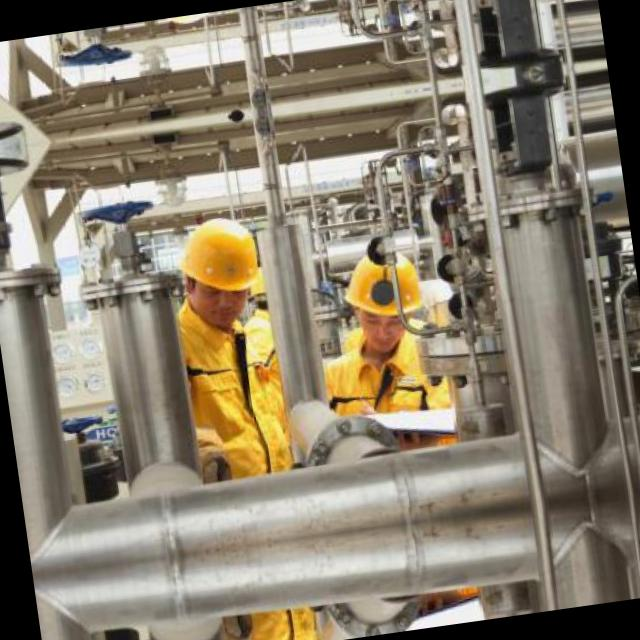helmet: (164, 204, 279, 340), (336, 238, 434, 358)
